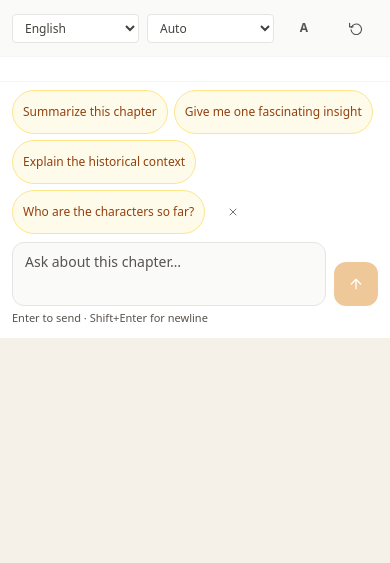
Test case: a failed request shows the error detail and a Retry button
This screenshot has width=390, height=563.
Type "Why the wager?" into the text box at (169, 274), box [12, 242, 326, 306]
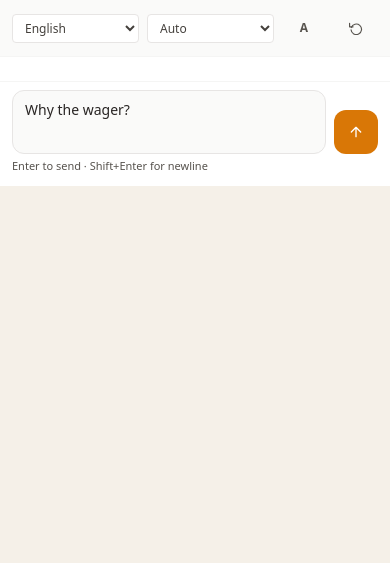
Click the button named "send" at (356, 132), box [334, 110, 378, 154]
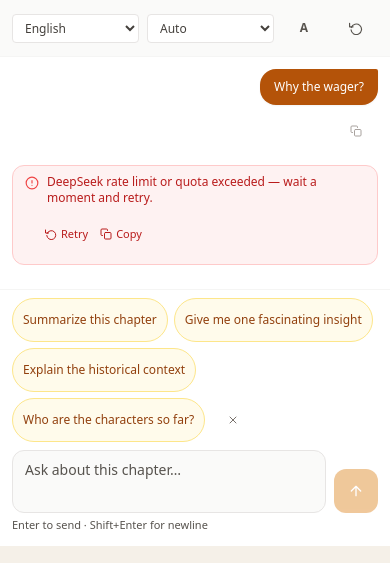
expect the message shows "quota exceeded": met, box [47, 172, 317, 206]
expect the button "Retry" is shown: met, box [45, 212, 88, 256]
